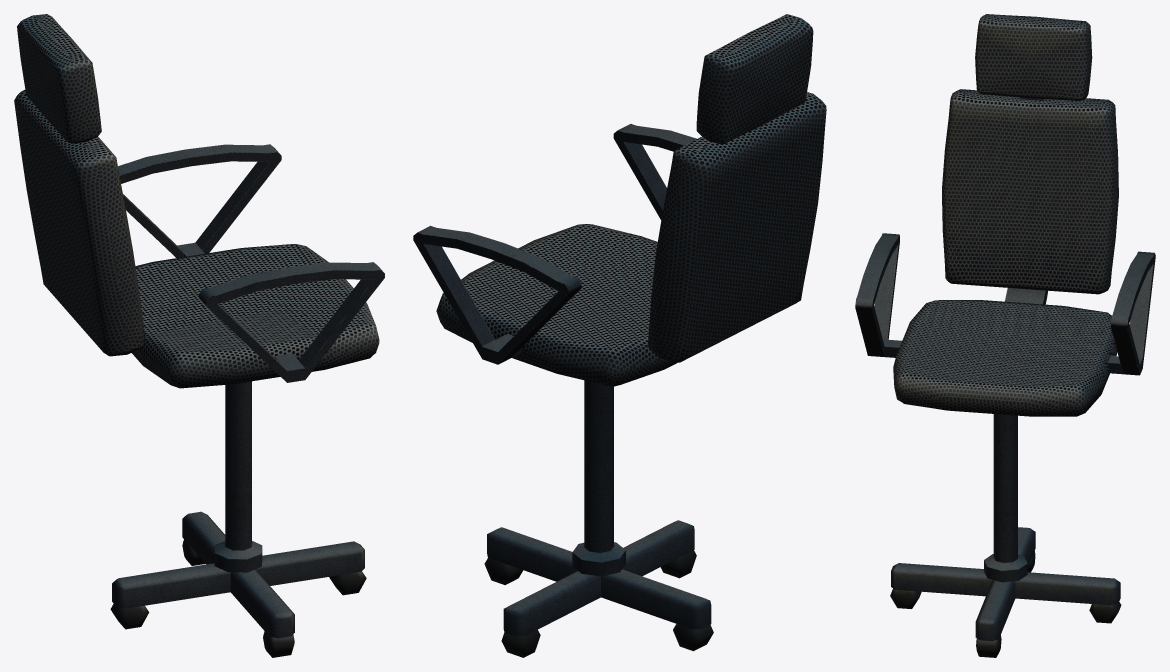
File: cadeira.glb
3 views of the same model, side by side, from view 1: azimuth 30°, elevation 25°; view 2: azimuth 150°, elevation 25°; view 3: azimuth 270°, elevation 25° (orthographic). The views are drawn at different scales.
Parts seen in each view (by area): view 1: CadeiraEscritorio1.002; view 2: CadeiraEscritorio1.002; view 3: CadeiraEscritorio1.002.
Boxes of the visible parts, left/top/right/bottom form: CadeiraEscritorio1.002: left=14, top=14, right=384, bottom=657; CadeiraEscritorio1.002: left=413, top=14, right=826, bottom=657; CadeiraEscritorio1.002: left=855, top=14, right=1155, bottom=657.
Bounding box in the file's own units: 0.6528 × 1.22 × 0.6337.
Materials: 1 (1 with a texture image).
